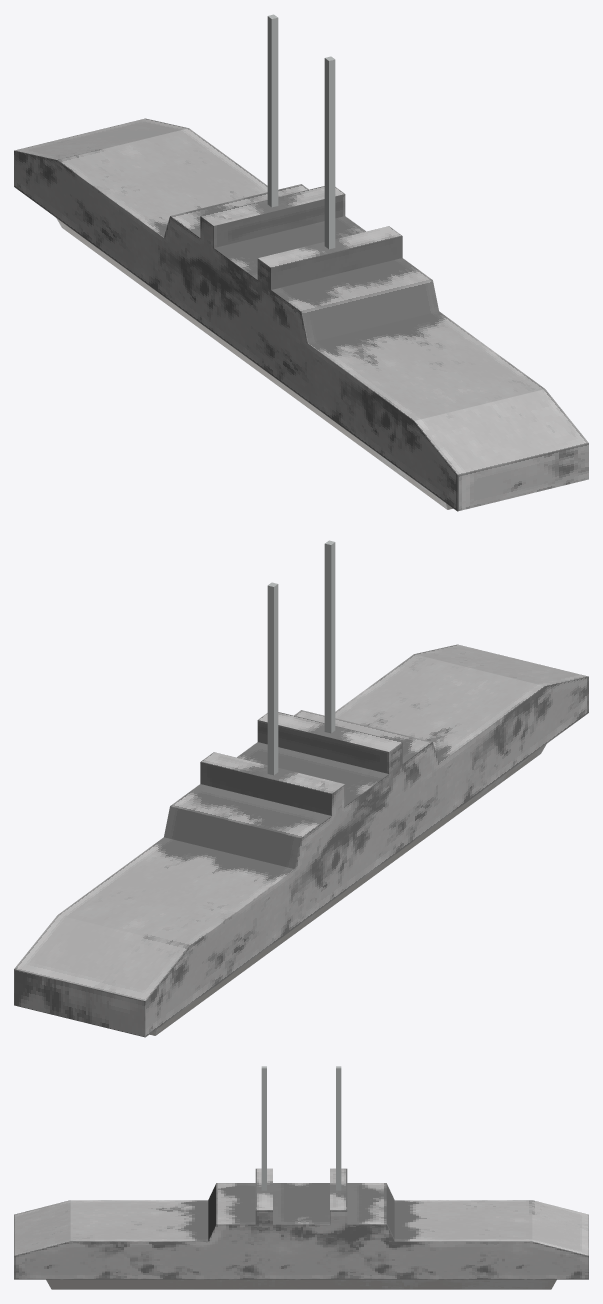
File: Lamp.glb
3 views of the same model, one above another, from view 1: azimuth 30°, elevation 25°; view 2: azimuth 150°, elevation 25°; view 3: azimuth 270°, elevation 25° (orthographic). The views are drawn at different scales.
Visible parts, largest first — view 1: Cube, Cube.001; view 2: Cube, Cube.001; view 3: Cube, Cube.001.
Part boxes in pixels (x1,y1,x2,y2): Cube: (14, 118, 588, 511); Cube.001: (267, 14, 335, 249); Cube: (14, 644, 588, 1037); Cube.001: (267, 540, 335, 775); Cube: (14, 1168, 588, 1289); Cube.001: (261, 1066, 341, 1190).
Bounding box in the file's own units: 0.3423 × 0.816 × 2.
1 material, 1 textured.
